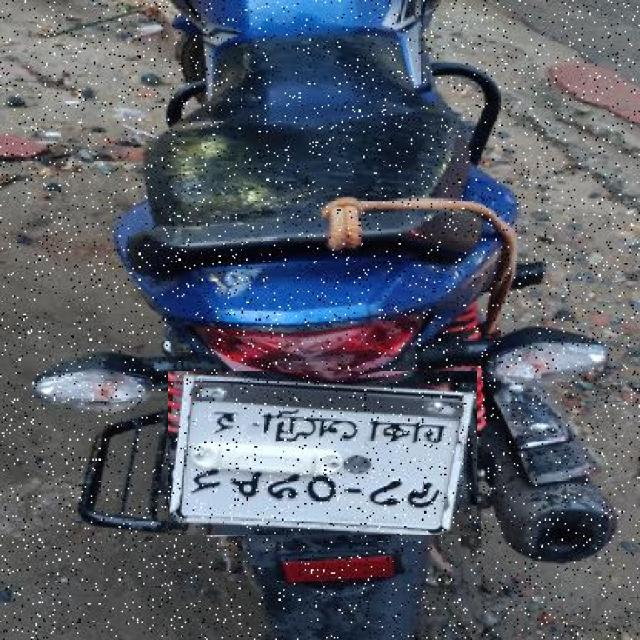numberplate: (168, 371, 477, 535)
